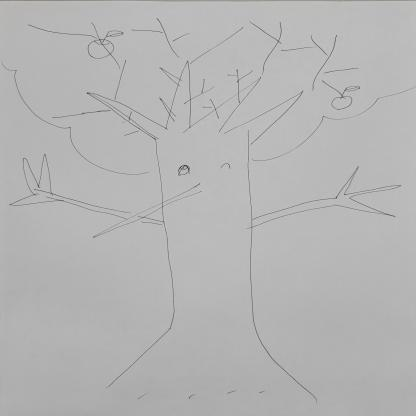apple: (83, 34, 120, 61), (329, 91, 360, 111)
branch_sharp: (82, 62, 308, 135)
crown_cloud: (4, 1, 416, 176)
trunk_straight: (156, 230, 265, 328)
